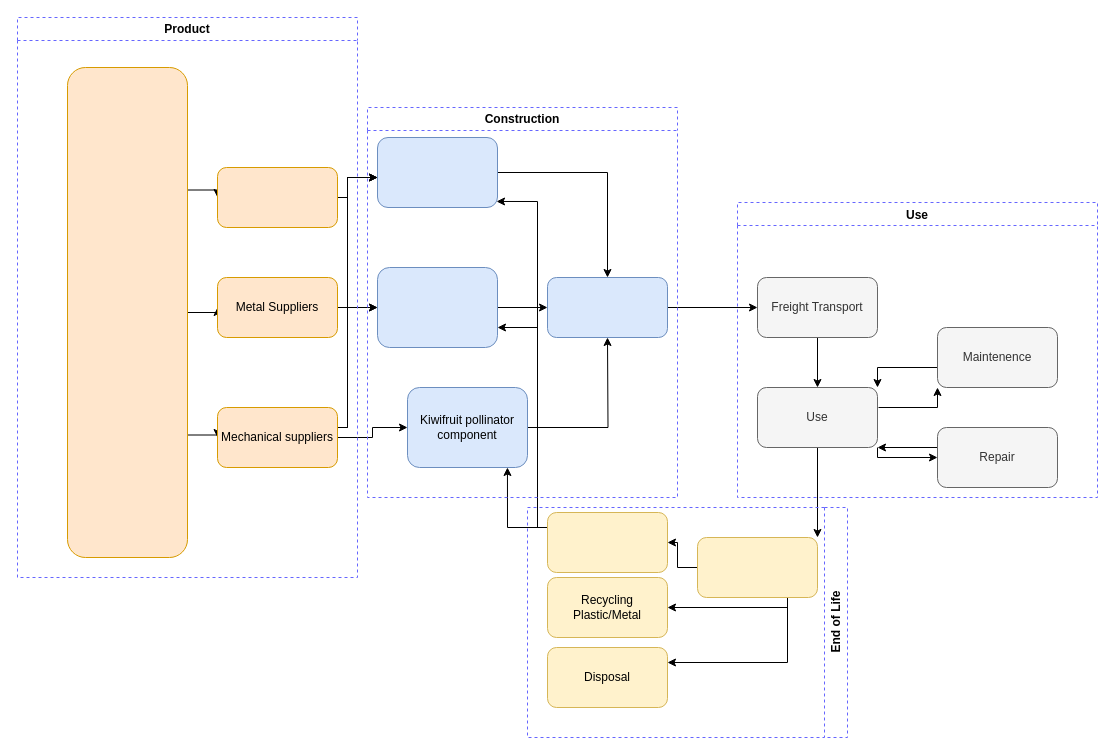
The diagram is 1115 pixels wide and 755 high, and some of its shapes have lost their labels. The shapes that lost their labels are listed below. From the top down, each one's centre as x and y in pixels, then its label:
At pixel 437 172: "Modular Base Platform".
At pixel 277 197: "Electrical Suppliers".
At pixel 127 312: "Raw Materials".
At pixel 437 307: "Autonomous Kiwifruit picker arm component".
At pixel 607 307: "Complete system".
At pixel 607 542: "Reuse of components".
At pixel 757 567: "Disassembly".
